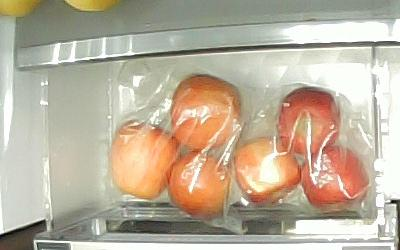apple_vinyl: (107, 117, 181, 199), (169, 73, 242, 150), (273, 84, 341, 155), (232, 135, 301, 204), (166, 148, 231, 219), (299, 144, 369, 208)
